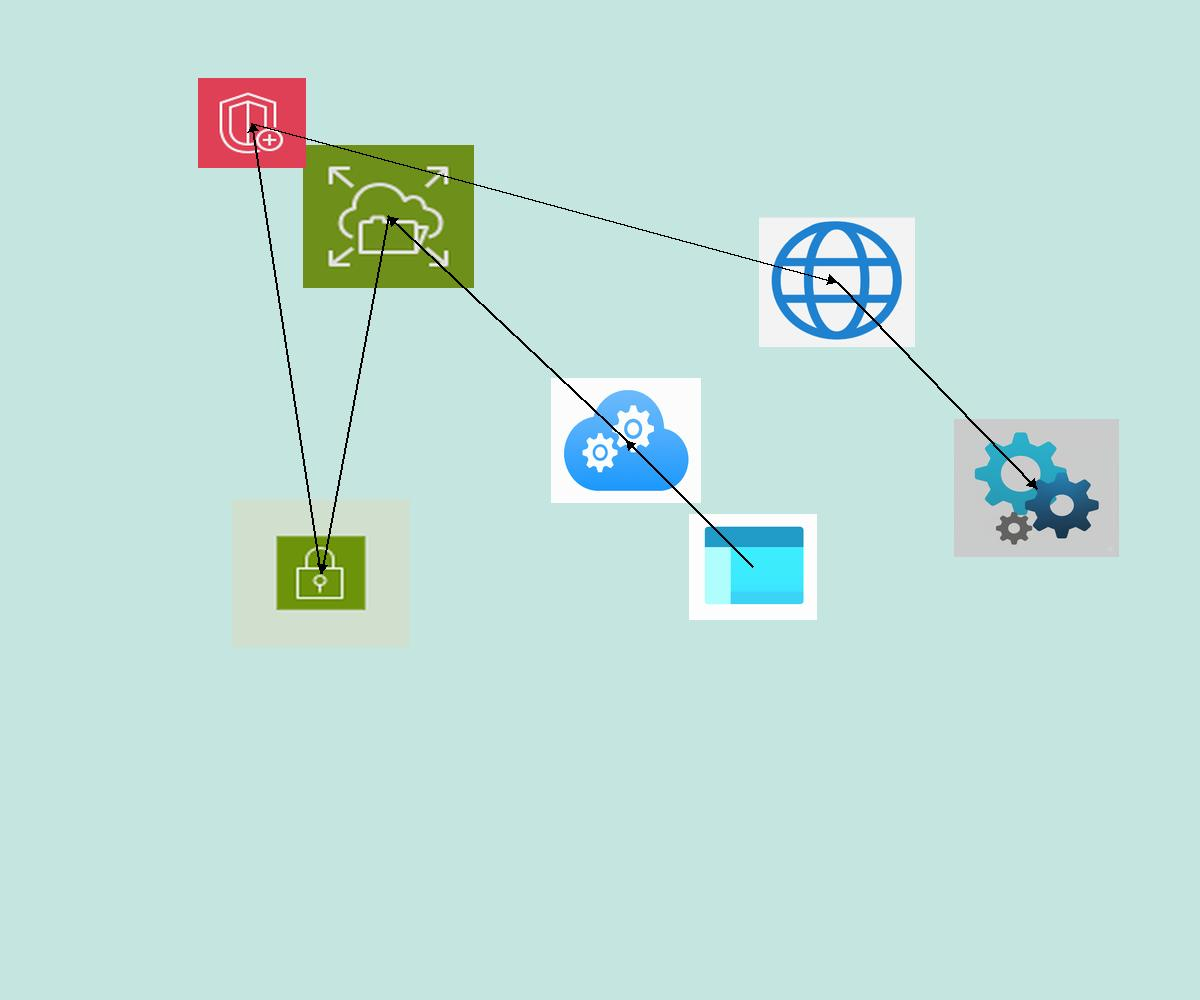AWS-EFS: (303, 145, 474, 288)
AWS-Public-subnet: (232, 499, 410, 647)
AWS-Shield: (198, 78, 306, 168)
Azure_api: (954, 419, 1119, 557)
Azure_cloud_services: (551, 378, 701, 503)
Azure_http: (759, 217, 915, 347)
Azure_management-portal: (689, 514, 817, 620)
